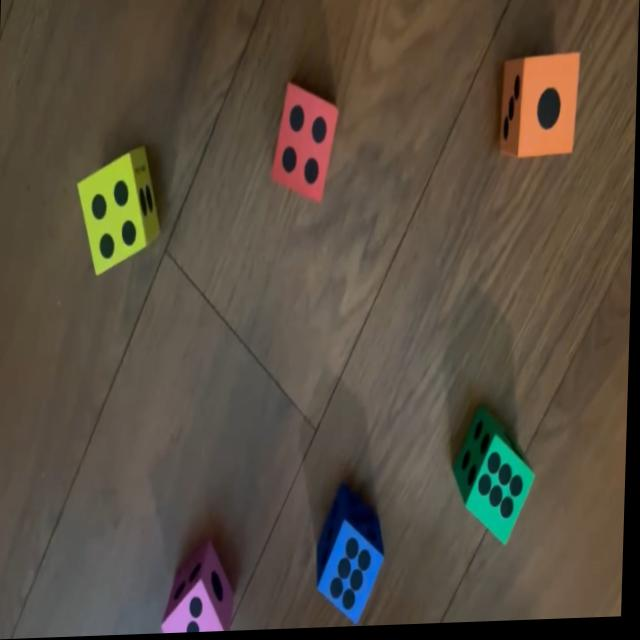blue_block: (318, 490, 389, 630)
red_block: (271, 85, 340, 208)
